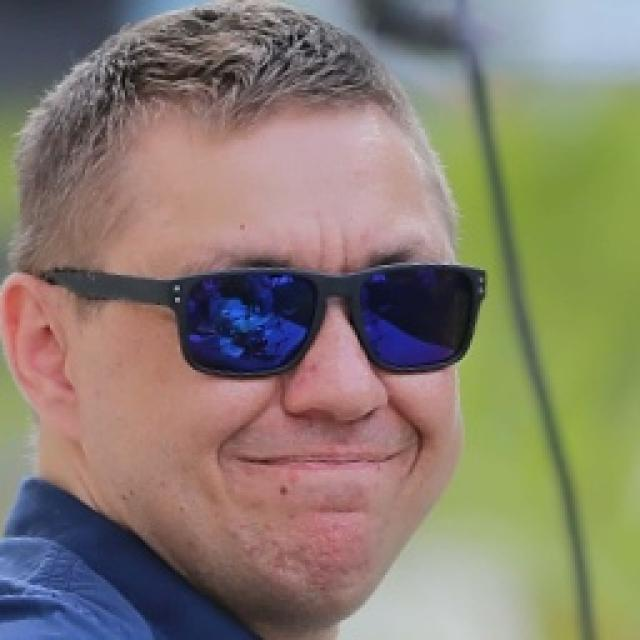glasses: (56, 243, 508, 389)
